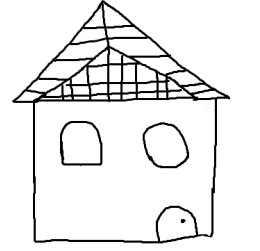door: (150, 199, 201, 244)
open_window: (56, 118, 105, 168), (141, 122, 189, 169)
roof: (11, 0, 236, 108)
wall: (30, 95, 219, 245)
